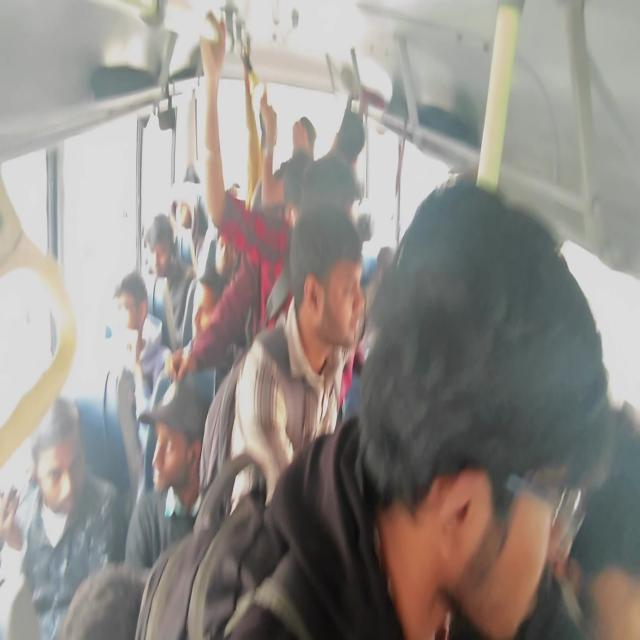person: (359, 256, 586, 610), (565, 462, 640, 640), (140, 388, 234, 516), (288, 224, 375, 340), (13, 406, 76, 498), (114, 273, 162, 350), (306, 166, 355, 221), (141, 222, 197, 270), (291, 154, 329, 218), (192, 272, 224, 336), (219, 220, 252, 281), (292, 104, 328, 146), (342, 113, 374, 148), (175, 192, 205, 224), (185, 163, 206, 195)
